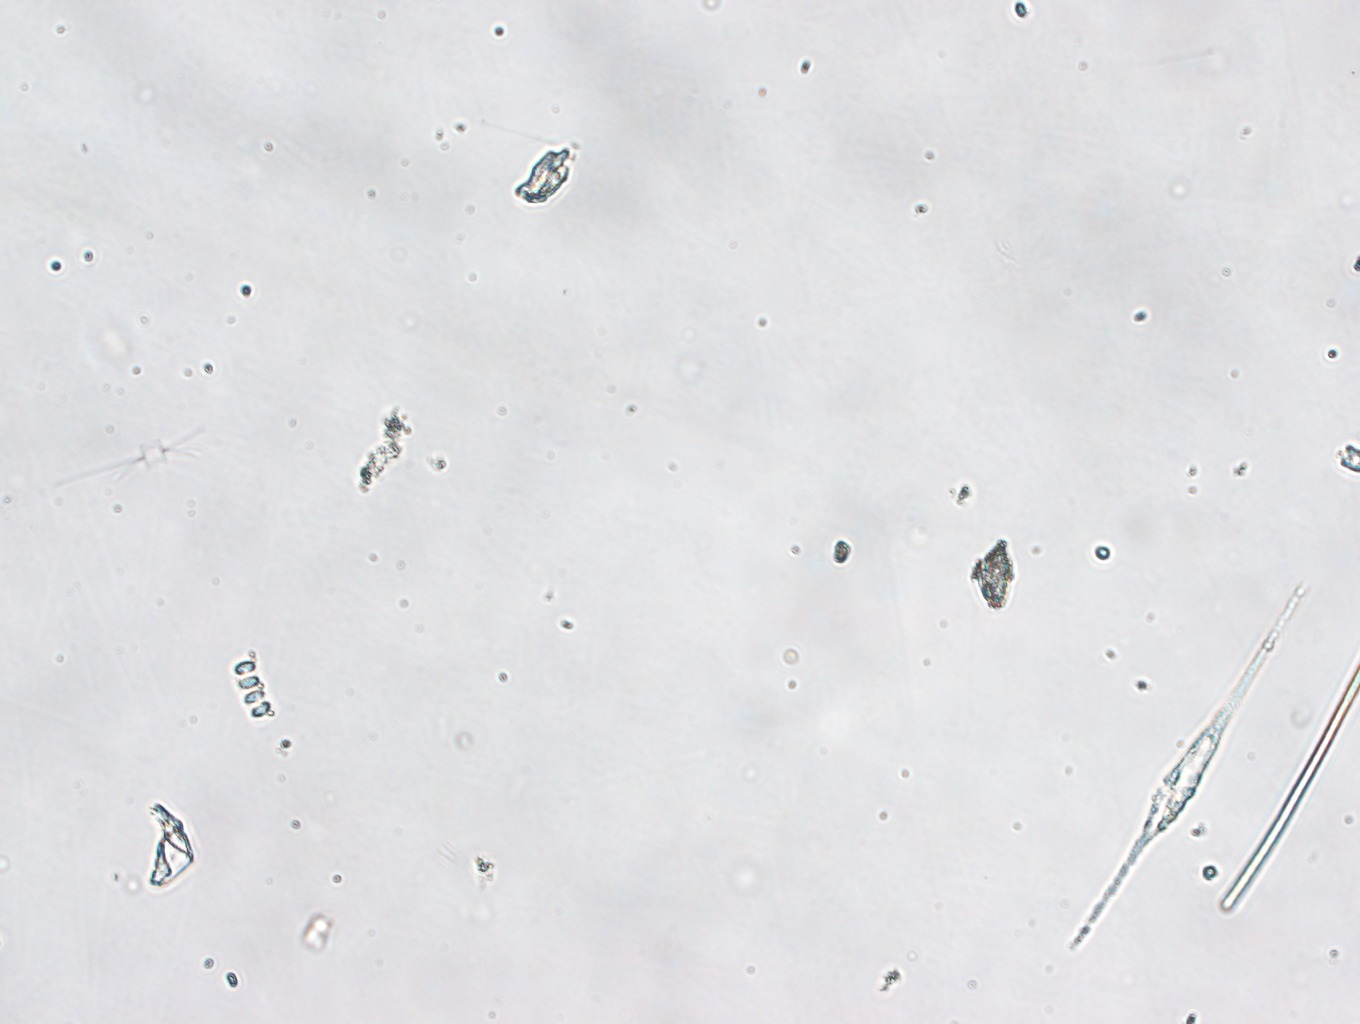ceratium fusus: (1072, 555, 1309, 948)
